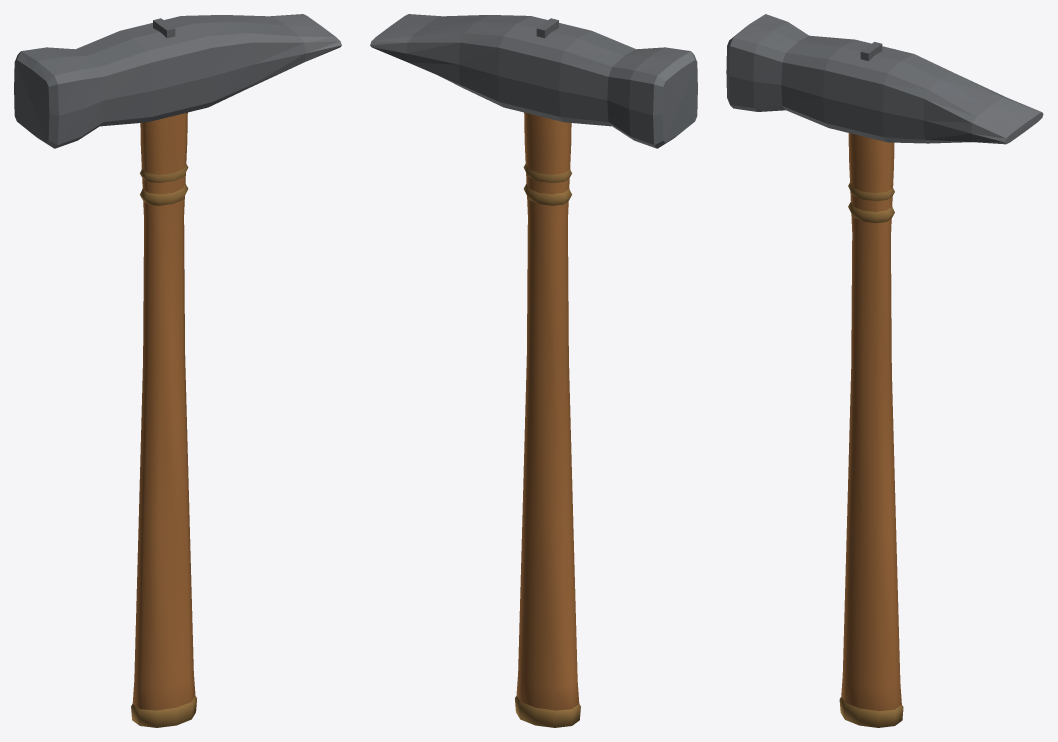
The model's file is prop_crafting_toolmaking_a.glb.
3 renders of one model, left to right at view 1: azimuth 30°, elevation 25°; view 2: azimuth 150°, elevation 25°; view 3: azimuth 330°, elevation 25°, orthographic. The views are drawn at different scales.
Visible parts, largest first — view 1: prop_crafting_toolmaking_a_mesh; view 2: prop_crafting_toolmaking_a_mesh; view 3: prop_crafting_toolmaking_a_mesh.
Part boxes in pixels (x1,y1,x2,y2): prop_crafting_toolmaking_a_mesh: (14, 14, 341, 727); prop_crafting_toolmaking_a_mesh: (370, 14, 697, 727); prop_crafting_toolmaking_a_mesh: (726, 14, 1043, 727).
Bounding box in the file's own units: 0.2857 × 0.6573 × 0.072.
